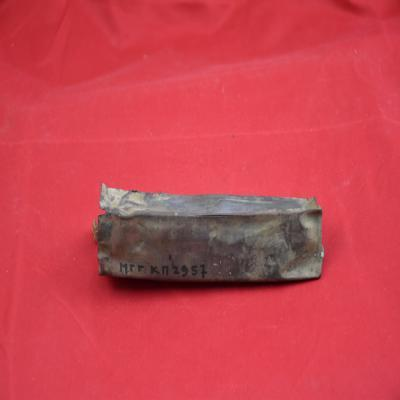other: (92, 185, 325, 288)
